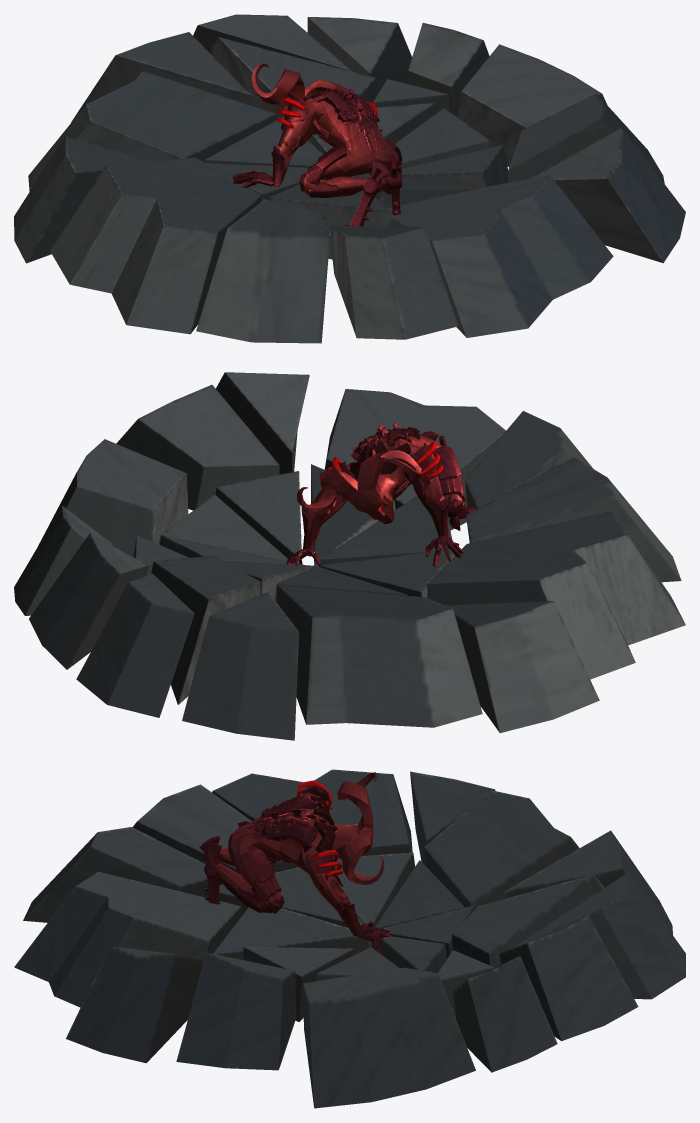
3 views of the same model, one above another, from view 1: azimuth 30°, elevation 25°; view 2: azimuth 150°, elevation 25°; view 3: azimuth 270°, elevation 25° (orthographic). The views are drawn at different scales.
Parts seen in each view (by area): view 1: Cylinder.007_Cylinder.009, Demon_LOW_Plane.002; view 2: Cylinder.007_Cylinder.009, Demon_LOW_Plane.002; view 3: Cylinder.007_Cylinder.009, Demon_LOW_Plane.002.
Boxes of the visible parts, <box> form: Cylinder.007_Cylinder.009: <box>14,14,685,343</box>; Demon_LOW_Plane.002: <box>232,63,402,234</box>; Cylinder.007_Cylinder.009: <box>14,372,685,740</box>; Demon_LOW_Plane.002: <box>286,422,475,566</box>; Cylinder.007_Cylinder.009: <box>14,769,685,1108</box>; Demon_LOW_Plane.002: <box>199,772,392,955</box>.
Size of the model in its own units: 15.24 by 4.37 by 15.88.
